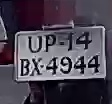1: (66, 31, 76, 54)
4: (45, 55, 60, 79), (87, 54, 102, 75), (76, 33, 91, 52), (74, 56, 85, 76)
9: (58, 56, 73, 77)
B: (19, 57, 30, 79)
P: (44, 31, 57, 54)
U: (26, 35, 44, 53)
X: (30, 56, 41, 78)
